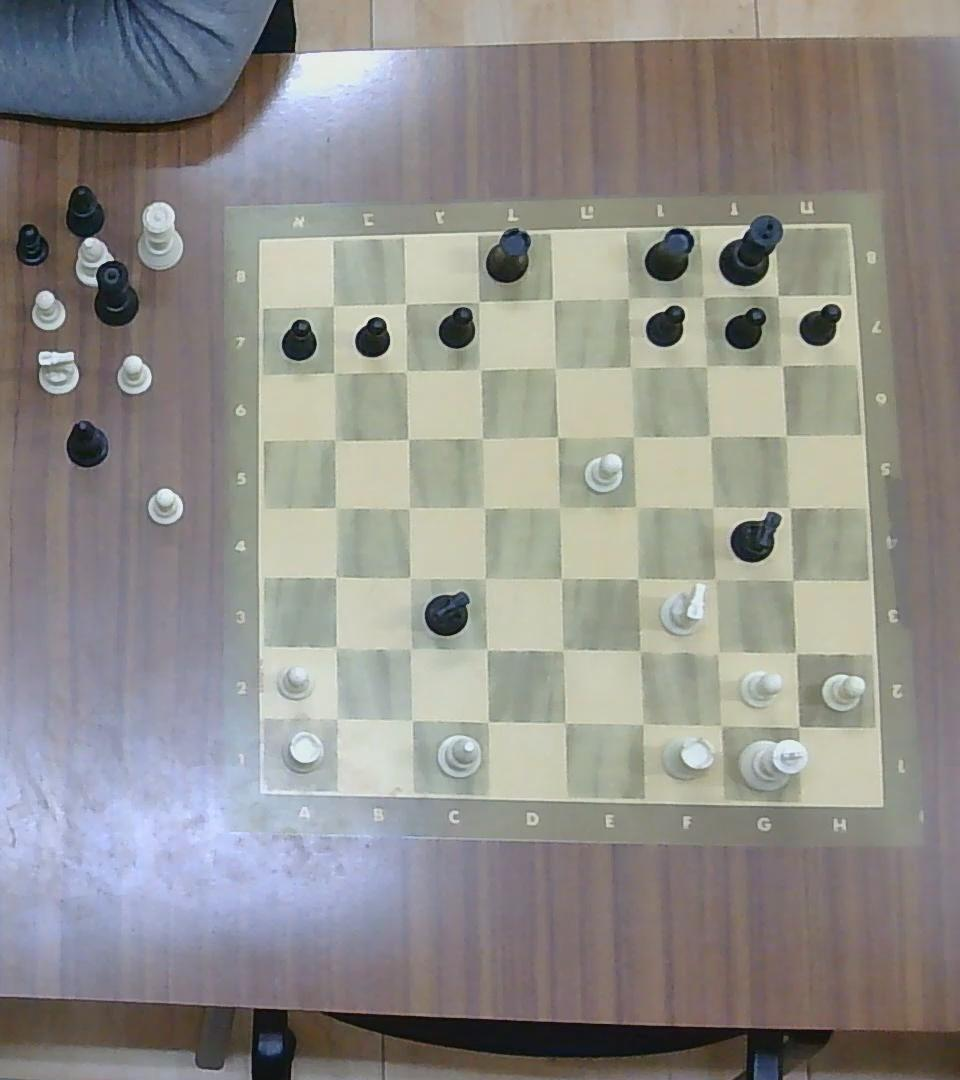xcorner: (624, 705, 659, 739), (781, 708, 815, 742), (702, 707, 737, 740), (701, 636, 734, 669), (624, 633, 655, 666), (548, 706, 579, 738), (470, 633, 501, 665), (320, 701, 351, 732), (780, 637, 811, 668), (622, 563, 652, 594), (547, 634, 578, 664), (395, 703, 425, 734), (471, 705, 502, 735), (320, 632, 350, 663), (547, 563, 577, 593), (700, 563, 729, 594), (320, 562, 350, 591), (394, 633, 424, 662), (622, 491, 651, 520), (777, 564, 806, 593), (394, 562, 423, 591), (616, 351, 645, 380), (545, 491, 573, 521), (470, 564, 500, 592), (698, 492, 728, 520), (467, 422, 495, 451), (775, 492, 804, 520), (619, 421, 648, 449), (538, 284, 566, 313), (470, 492, 498, 520), (543, 421, 571, 449), (692, 352, 721, 379), (395, 492, 423, 519), (393, 425, 421, 452), (322, 494, 350, 521), (696, 422, 723, 448), (322, 425, 348, 451), (615, 285, 641, 311), (541, 353, 567, 379), (322, 360, 348, 385), (467, 355, 492, 380), (465, 288, 491, 312), (393, 357, 418, 381), (773, 423, 798, 447), (691, 283, 715, 307), (393, 290, 418, 313), (770, 352, 793, 376), (767, 284, 790, 306), (321, 294, 343, 316)
